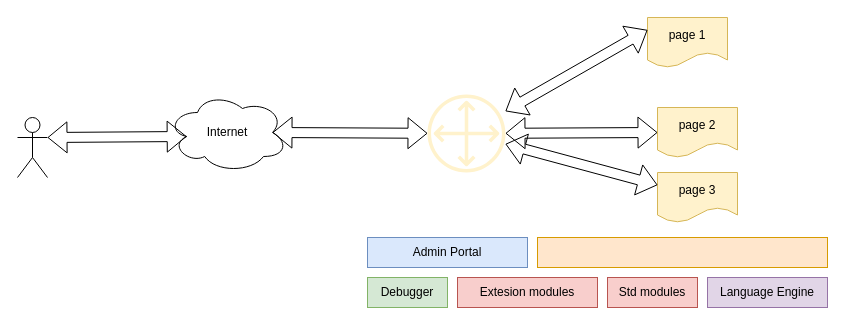
Some shapes in this 845 by 325 pixel diagram are drawn without their labels. Each missing label, with the centre of its shape:
"Actor" goes at (x=32, y=147).
"Router Page" goes at (x=466, y=133).
"Wallaby Programming Language" goes at (x=682, y=252).
